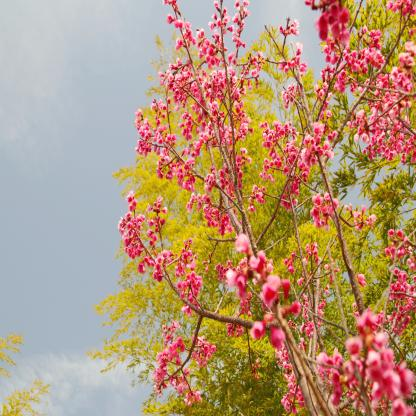KanhiSakura: (117, 1, 416, 416)
